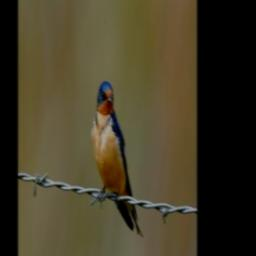Swallow: (90, 79, 143, 238)
